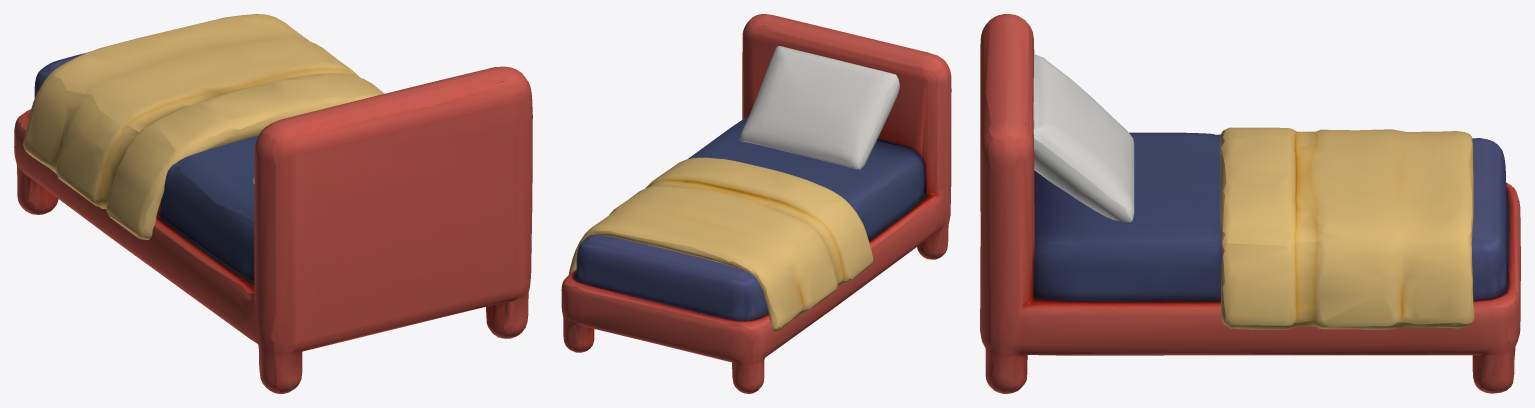
The model's file is Prop_Bed_AI.glb.
The picture shows the model from 3 angles, left to right: view 1: azimuth 30°, elevation 25°; view 2: azimuth 150°, elevation 25°; view 3: azimuth 270°, elevation 25°; orthographic projection. The views are drawn at different scales.
Parts seen in each view (by area): view 1: Prop_Bed_AI; view 2: Prop_Bed_AI; view 3: Prop_Bed_AI.
Part boxes in pixels (box(x1,y1,x2,y2)): Prop_Bed_AI: box(14, 14, 532, 393); Prop_Bed_AI: box(561, 14, 951, 393); Prop_Bed_AI: box(980, 14, 1520, 393).
Size of the model in its own units: 0.8514 by 0.75 by 1.37.
Materials: 3 (3 with a texture image).
